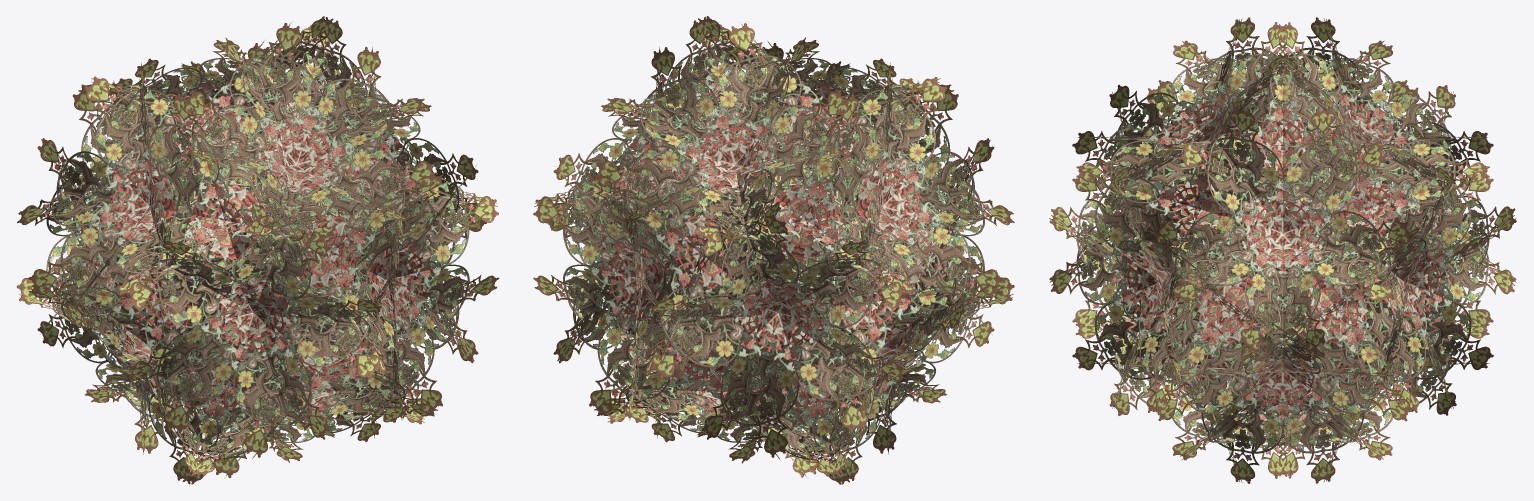
File: GreatDodecicosahedron8.gltf
3 renders of one model, left to right at view 1: azimuth 30°, elevation 25°; view 2: azimuth 150°, elevation 25°; view 3: azimuth 270°, elevation 25°, orthographic. The views are drawn at different scales.
Parts seen in each view (by area): view 1: GreatDodecicosahedron; view 2: GreatDodecicosahedron; view 3: GreatDodecicosahedron.
Boxes of the visible parts, x1,y1,x2,y2 form: GreatDodecicosahedron: (16,16,499,484); GreatDodecicosahedron: (533,16,1014,484); GreatDodecicosahedron: (1049,17,1516,483).
Size of the model in its own units: 2.24 by 2.24 by 2.24.
Materials: 1 (1 with a texture image).
